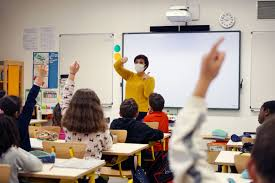with_mask: (134, 60, 145, 71)
